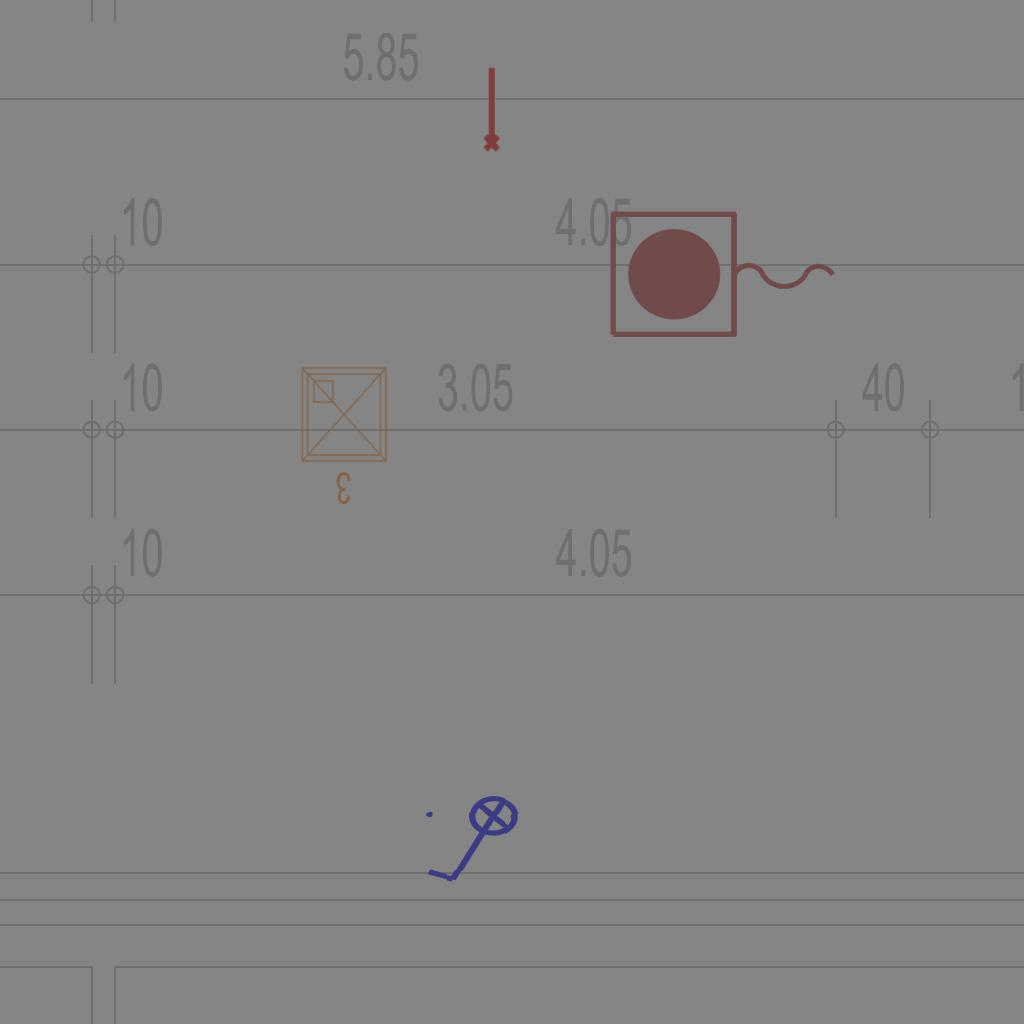ASR_Ansaugoeffnung: (479, 65, 502, 153)
Ausschalter_beleuchtet: (419, 793, 533, 891)
Einbaudownlights_LED_Konferenzraeume: (294, 360, 398, 510)
Zugtaster: (602, 204, 846, 348)
